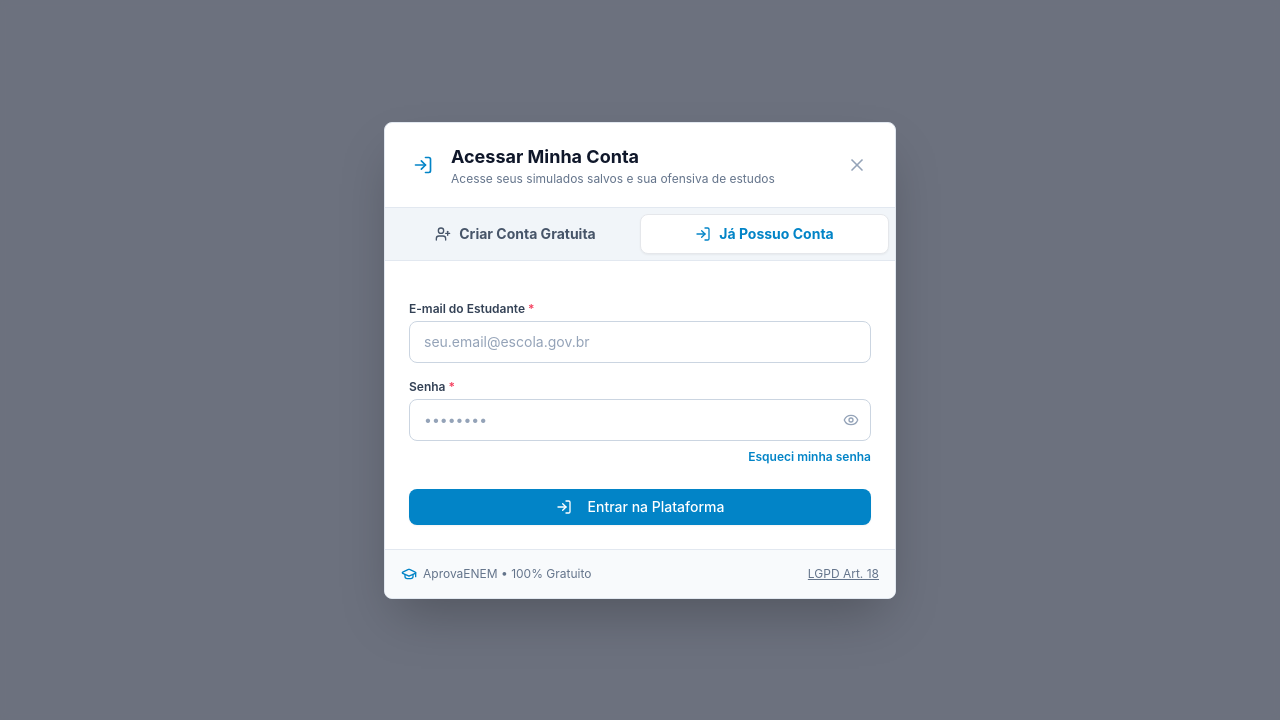
it: RegisterModal Component › should display error message when login fails with API error
The image size is (1280, 720).
Type "lucas@escola.gov.br" into the field labelled "E-mail do Estudante *" at coordinates (640, 342), box x1=409 y1=320 x2=871 y2=362
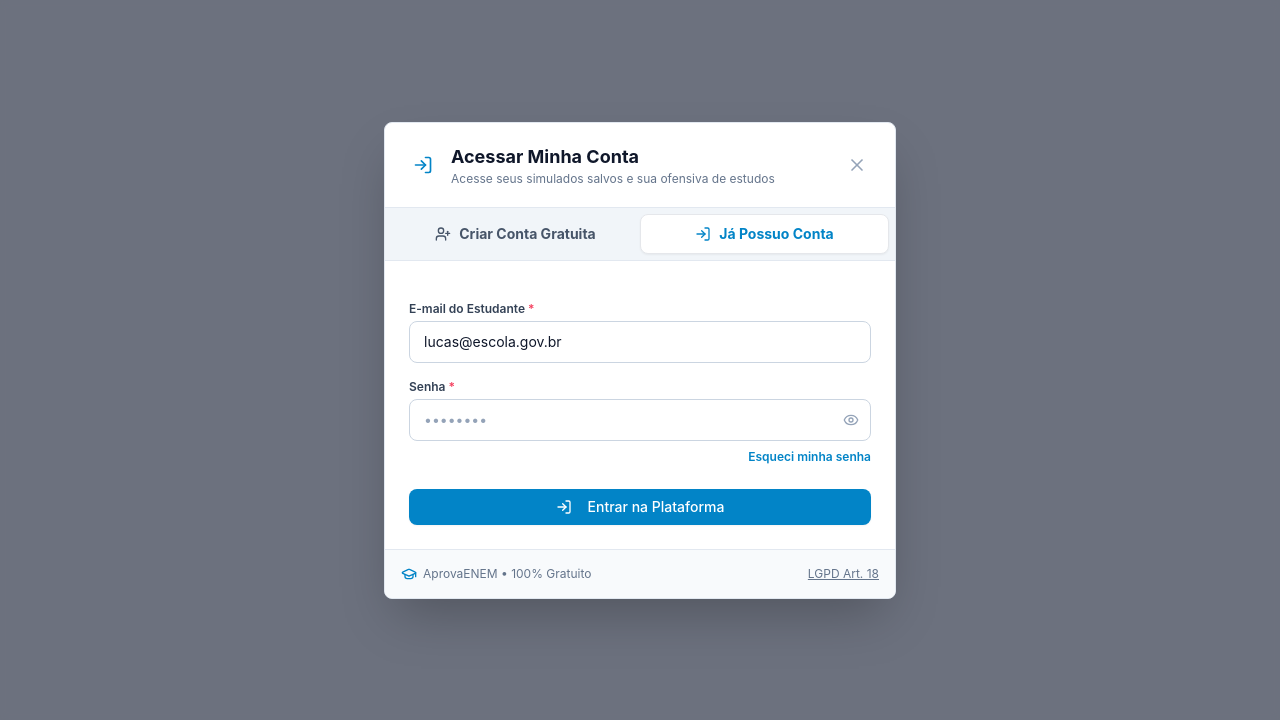
Type "wrongpassword" into the password field labelled "Senha *" at coordinates (640, 420), box x1=409 y1=398 x2=871 y2=440
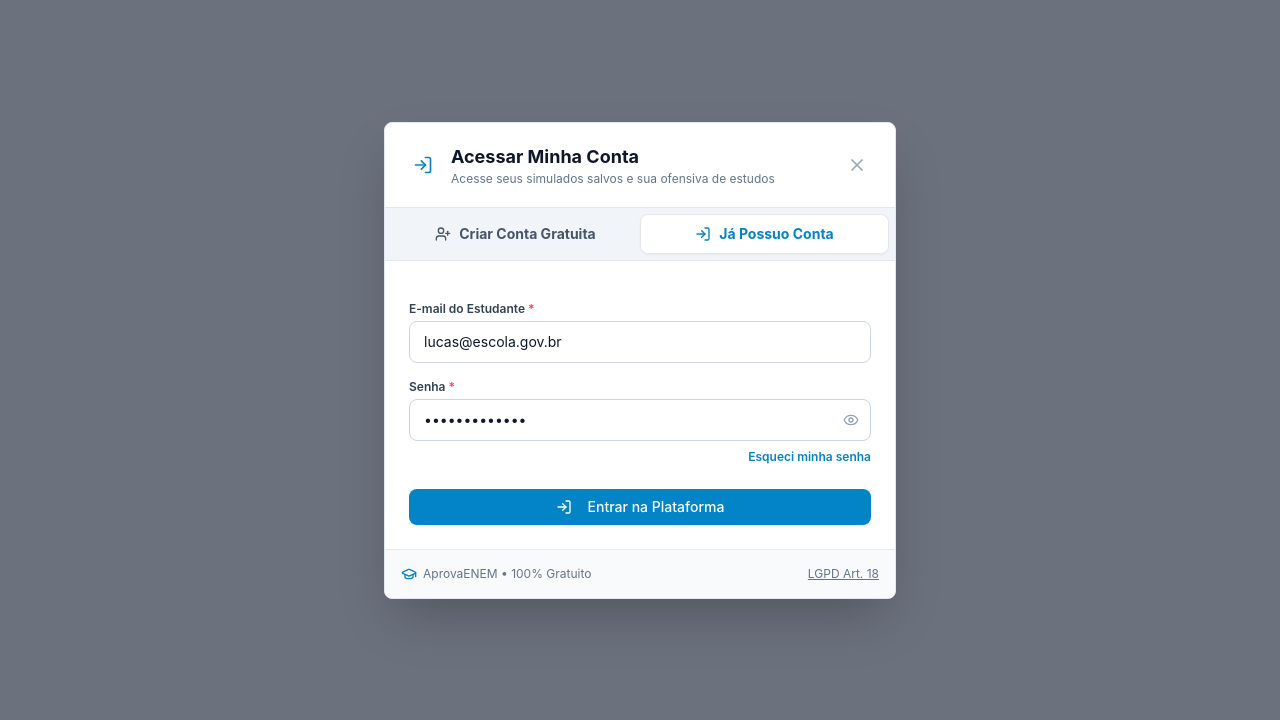
Click the button "Entrar na Plataforma" at coordinates (640, 506), box x1=409 y1=488 x2=871 y2=524
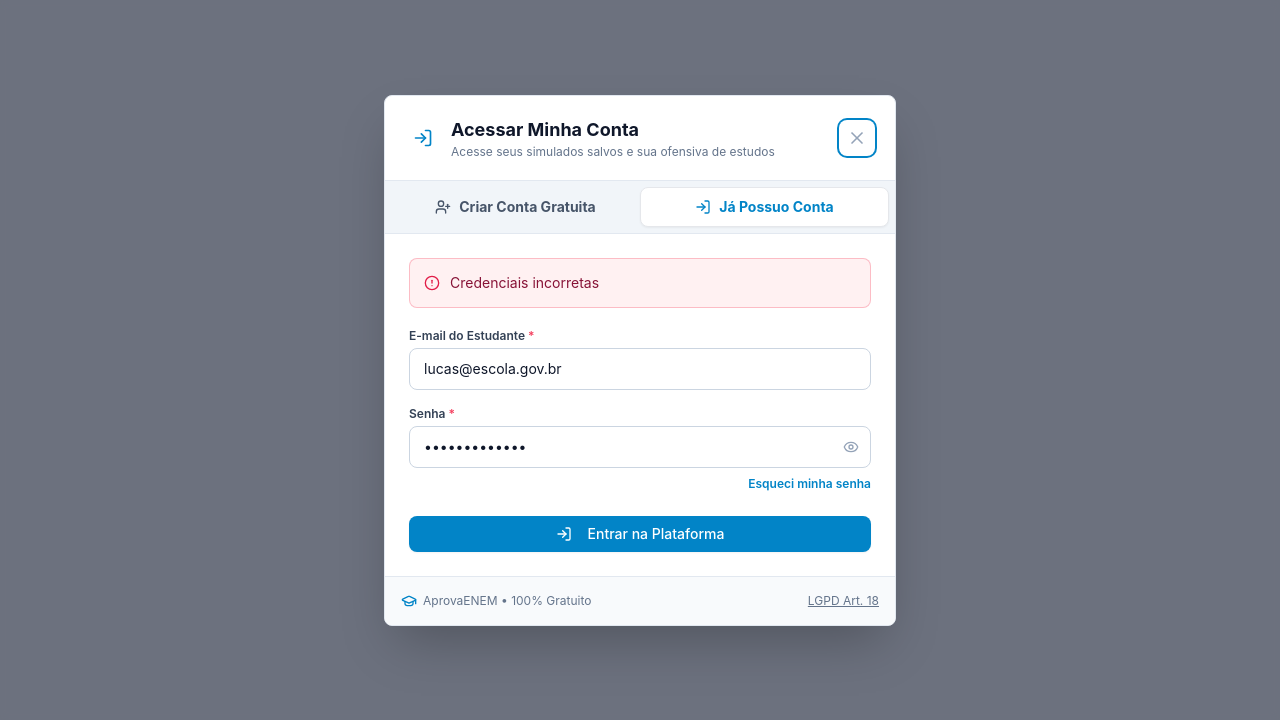
Expected: the text "Credenciais incorretas" is shown, x1=450 y1=272 x2=599 y2=292
